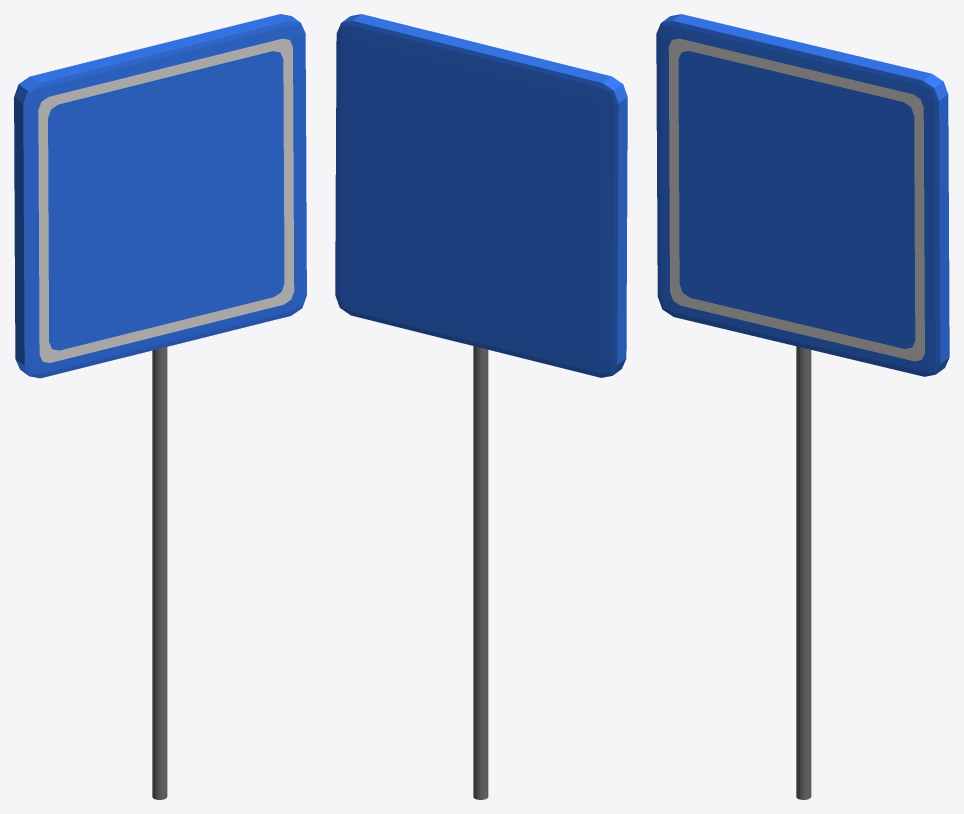
File: signs square blue.fbx
3 renders of one model, left to right at view 1: azimuth 30°, elevation 25°; view 2: azimuth 150°, elevation 25°; view 3: azimuth 330°, elevation 25°, orthographic.
Parts seen in each view (by area): view 1: Cube.002; view 2: Cube.002; view 3: Cube.002.
Boxes of the visible parts, <box> form: Cube.002: <box>14,14,306,799</box>; Cube.002: <box>335,14,627,799</box>; Cube.002: <box>656,14,949,799</box>.
Bounding box in the file's own units: 180 × 12.13 × 453.
